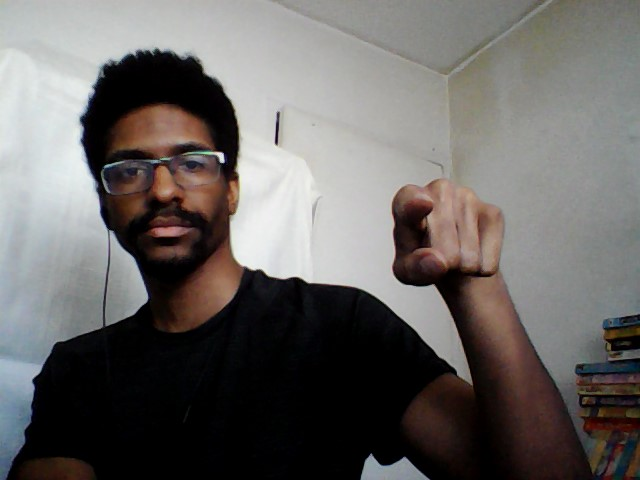z: (388, 175, 512, 291)
